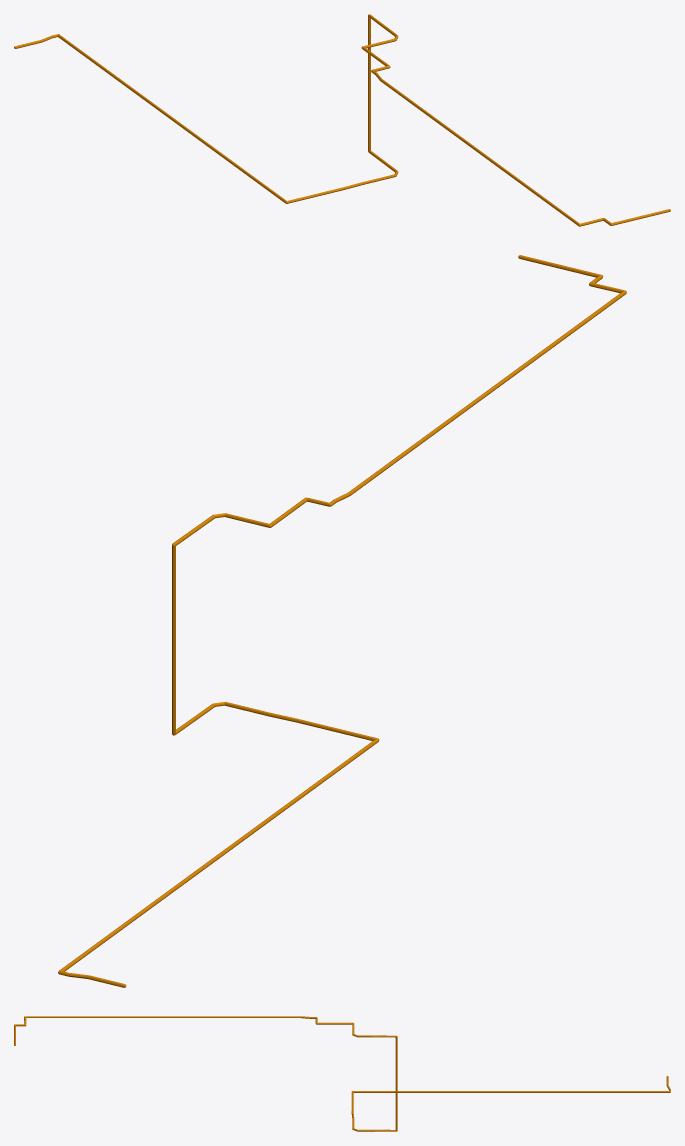
The picture shows the model from 3 angles, top to bottom: view 1: azimuth 30°, elevation 25°; view 2: azimuth 150°, elevation 25°; view 3: azimuth 270°, elevation 25°; orthographic projection. The views are drawn at different scales.
Size of the model in its own units: 1444 by 1020 by 6313.
